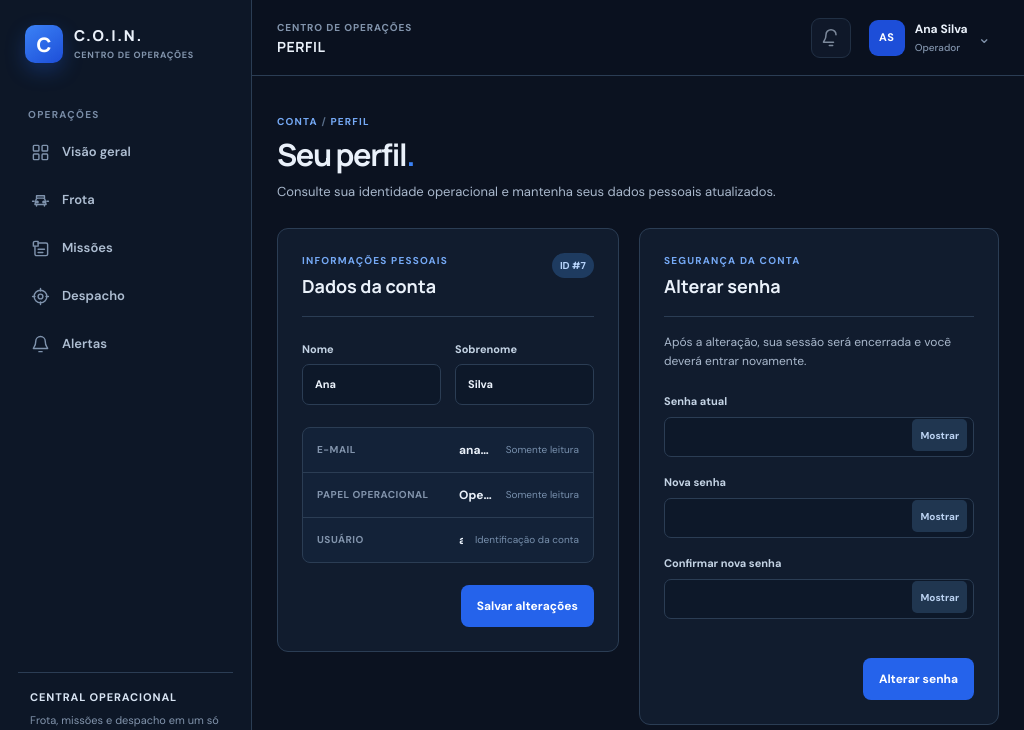
Test: alteração de senha › mostra erro seguro do backend e mantém a sessão
Type "OldPassword123" into the password field labelled "Senha atual".
click(819, 437); type("OldPassword123")  # box [664,417,974,457]
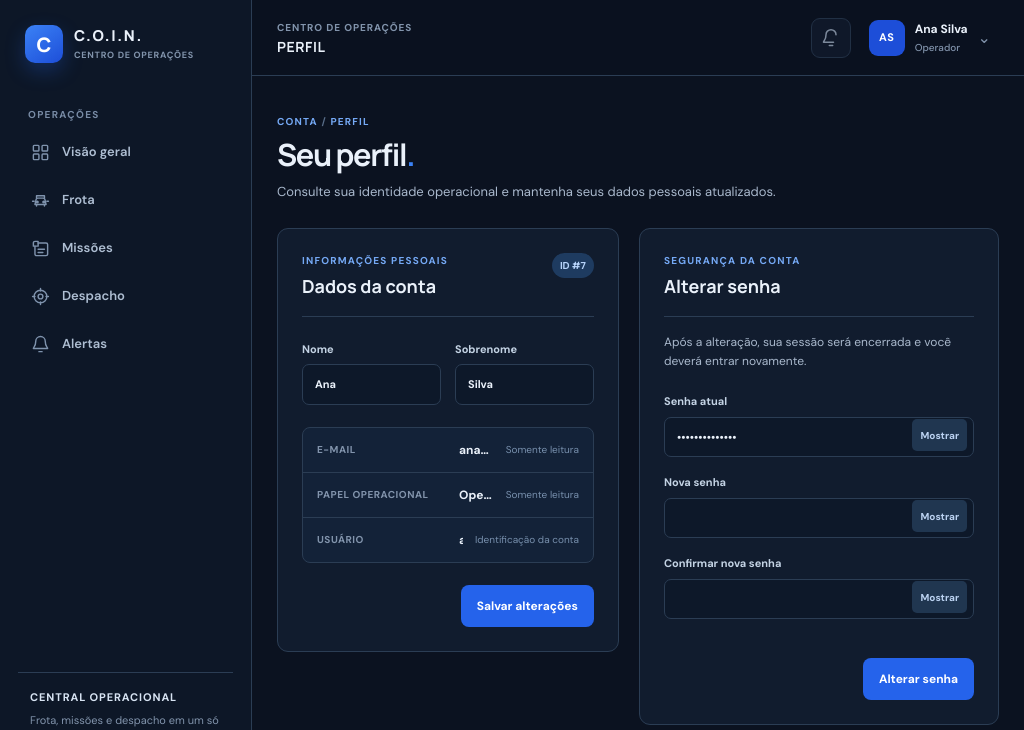
Type "NewPassword123" into the password field labelled "Nova senha".
click(819, 518); type("NewPassword123")  # box [664,498,974,538]
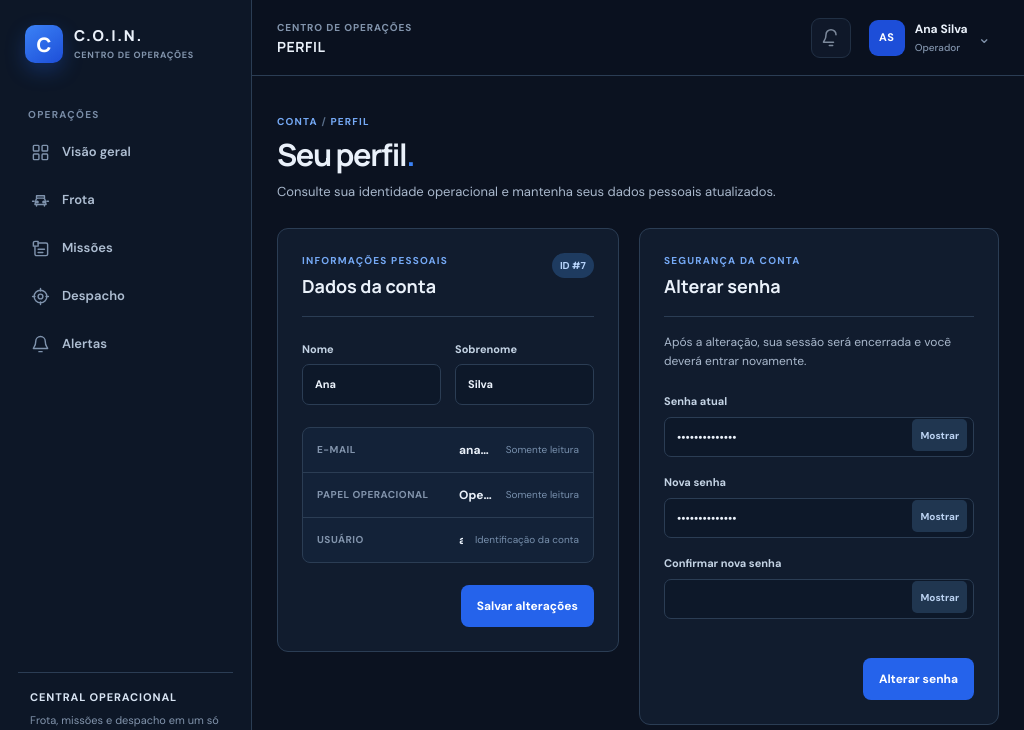
Type "NewPassword123" into the password field labelled "Confirmar nova senha".
click(819, 599); type("NewPassword123")  # box [664,579,974,619]
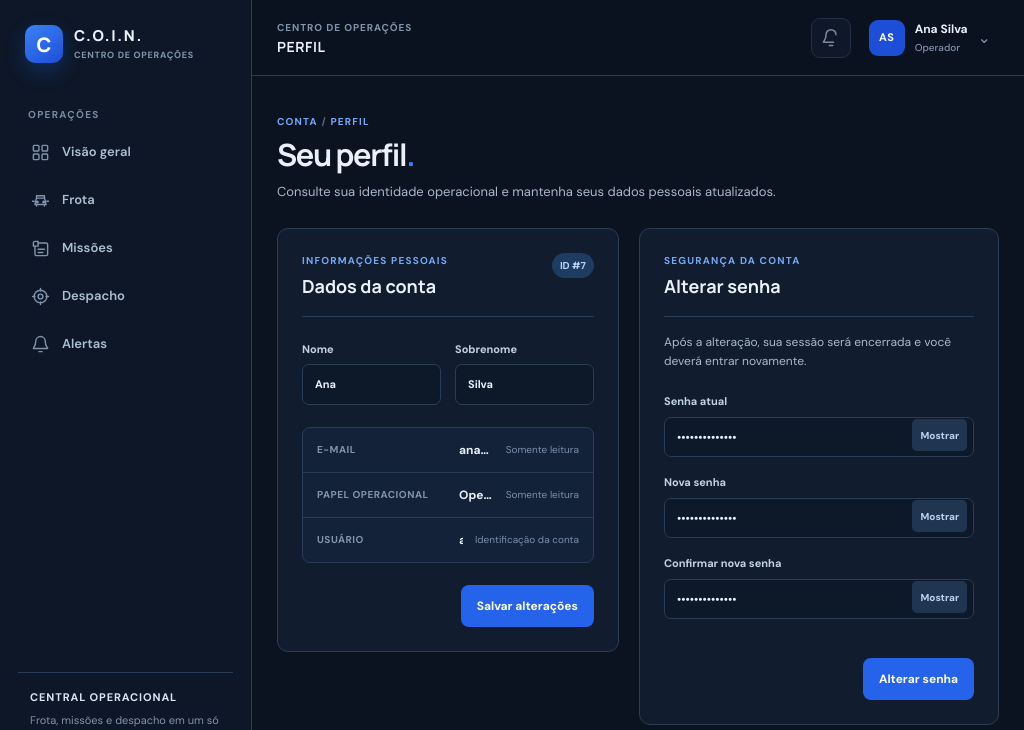
Click the button "Alterar senha".
click(918, 679)  # box [863,658,974,700]
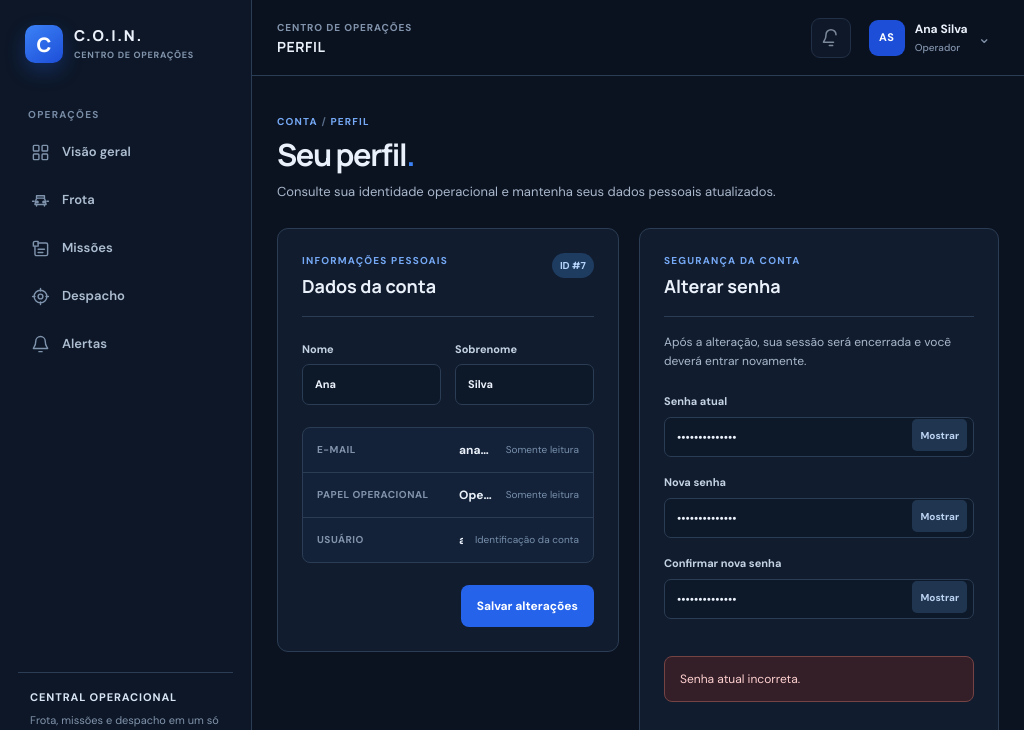
expect the message reads "Senha atual incorreta.": met, box [680,671,800,687]
